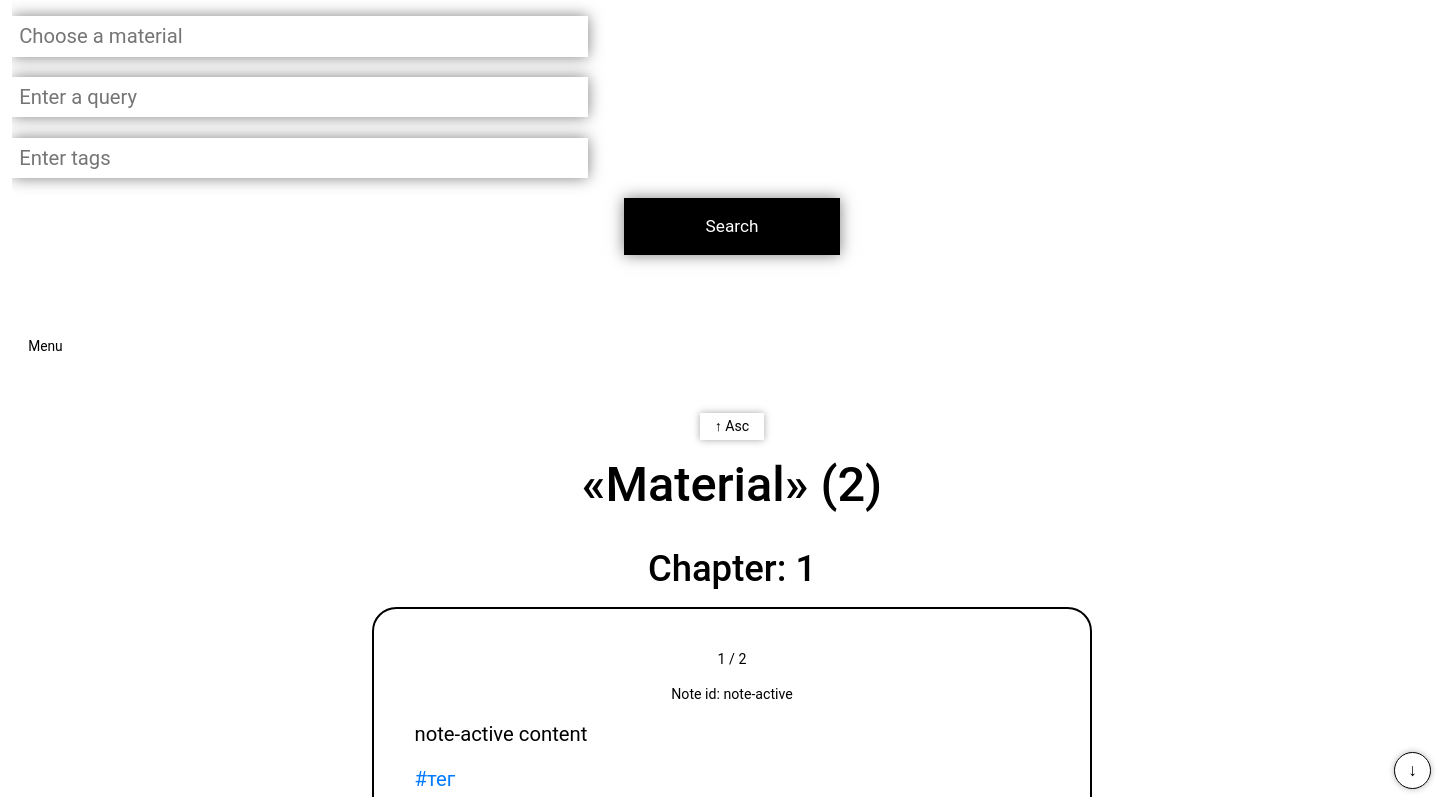
Test case: SearchNotesPage query autocompletion › hides the autocomplete error after a successful request
The image size is (1452, 797).
Type "al" into the field with placeholder "Enter a query".
click(300, 97); type("al")  # box [12,77,588,117]
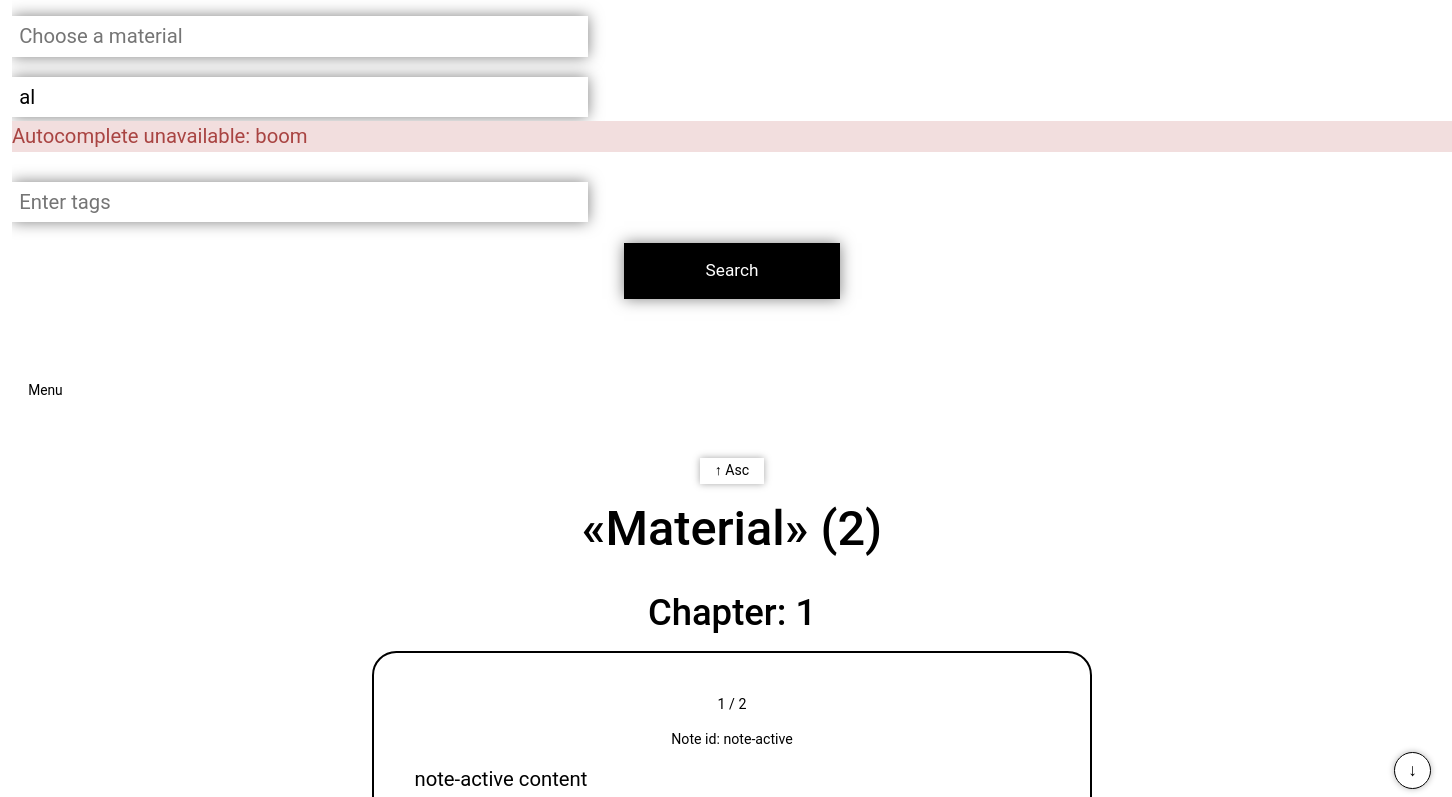
expect the message shows "boom": met, box [255,124,308,148]
Replace the text in the field with placeholder "Enter a query" with "alp" at [300, 97], box [12,77,588,117]
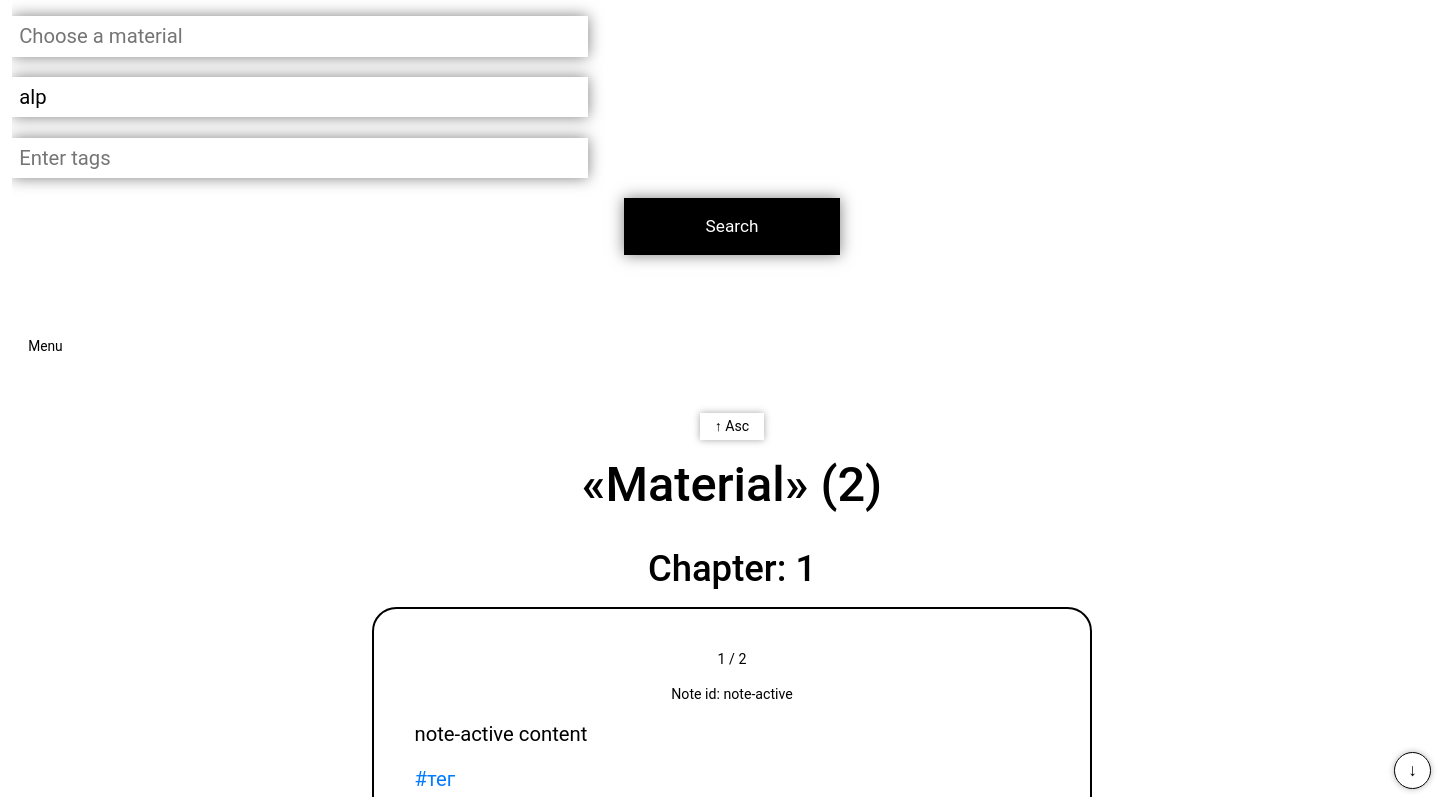
expect the message "Autocomplete unavailable: boom" is gone: met
